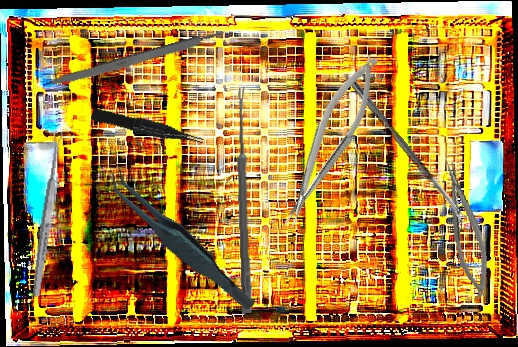Needle Holder: (267, 49, 392, 233), (439, 158, 495, 300)
Scalpel Handle: (43, 28, 228, 92)
Surgical Spoon: (349, 79, 468, 225), (30, 131, 65, 297), (234, 87, 254, 314)
Tissue Forceps: (104, 146, 257, 335), (90, 103, 205, 153)
